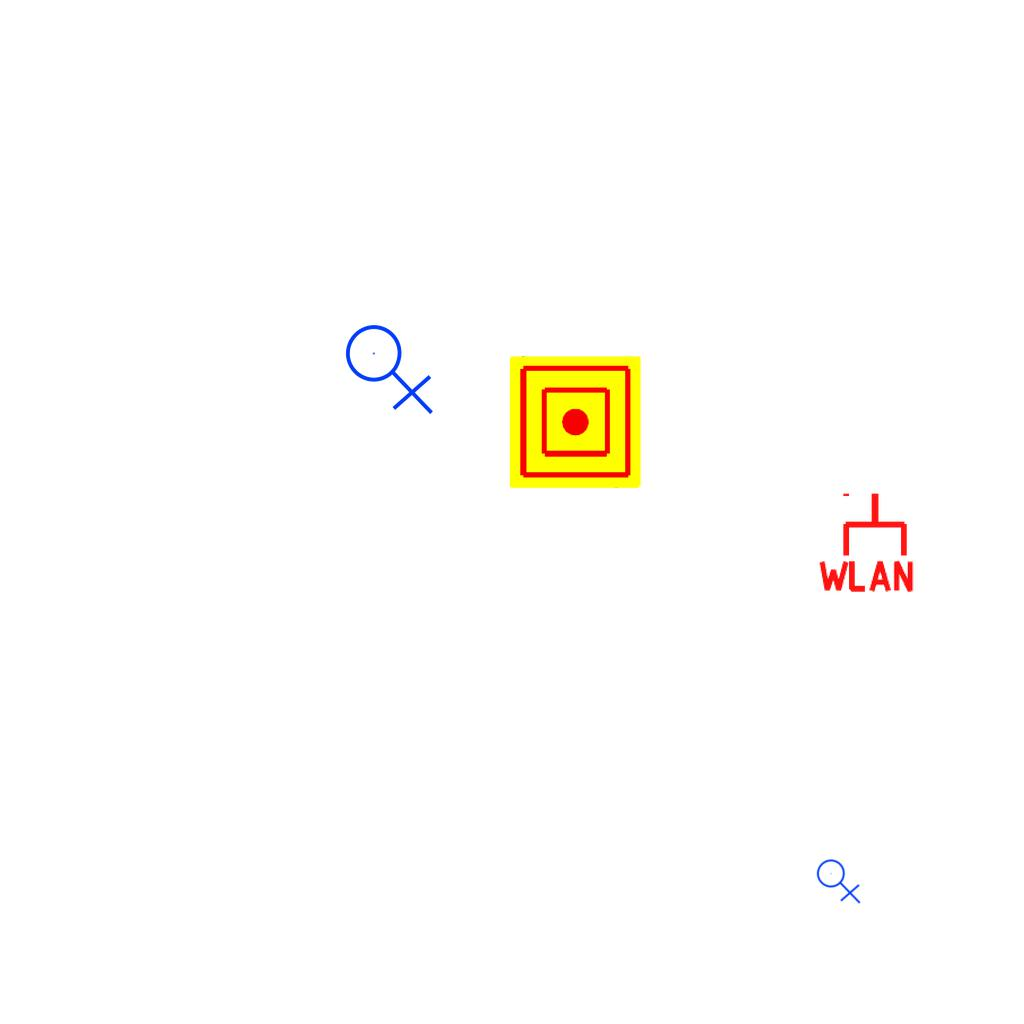Elektroanschluss_allgemein_230V_Geraeteanschlussdose_230V: (344, 316, 438, 415), (816, 855, 863, 904)
NAM-Nichtautomatischer_Melder: (509, 356, 641, 488)
WLAN: (814, 489, 918, 594)
